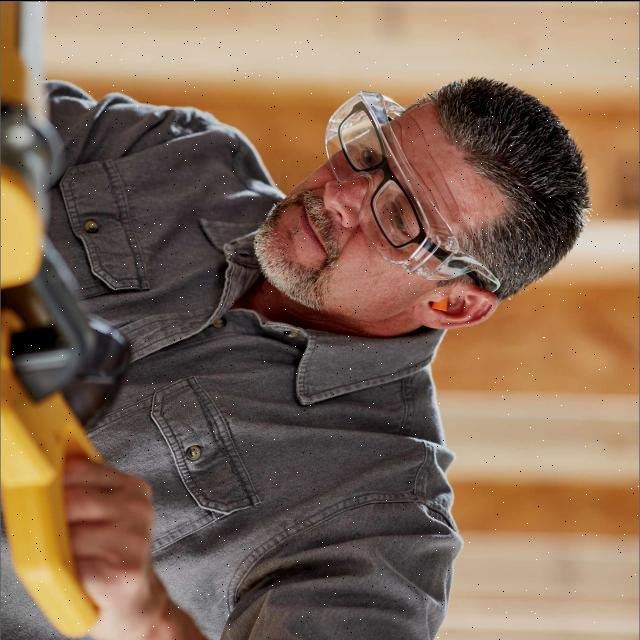Glass: (321, 86, 505, 298)
